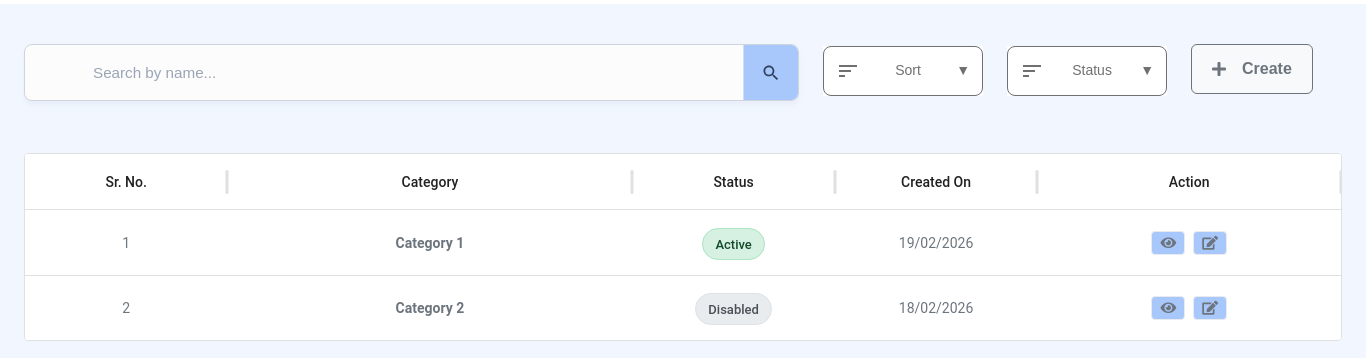
Testing Organisation Action Item Categories › Filter the categories by status (Active)
Expected: the text "Category 1" is shown, [396, 235, 464, 251]
Click the button with test id "filter-toggle".
click(1087, 70)  # box [1007, 46, 1167, 96]
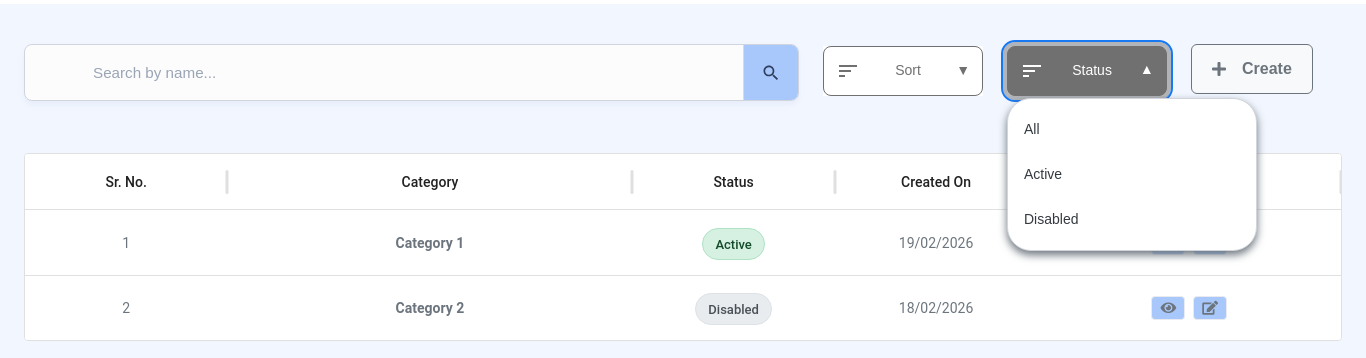
Now the option with test id "filter-item-active" is shown
Click the option with test id "filter-item-active".
click(1043, 174)  # box [1024, 166, 1062, 182]
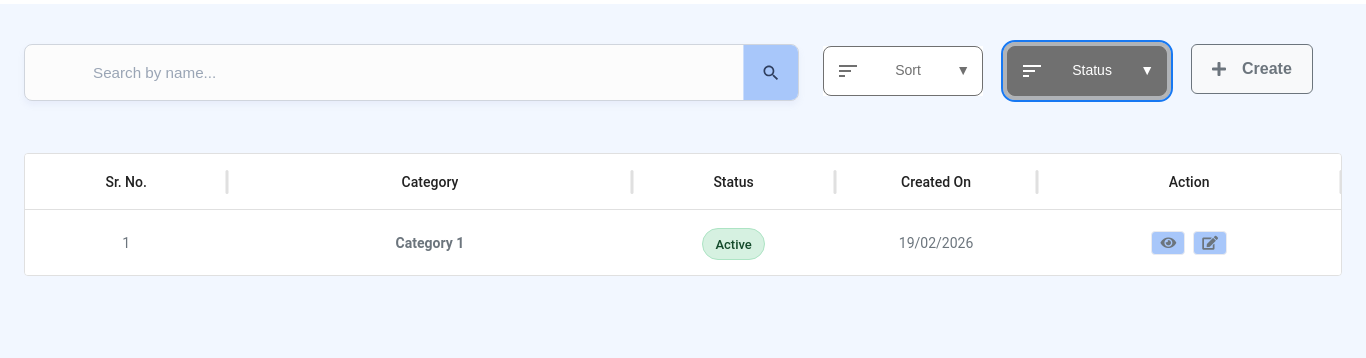
Expected: the text "Category 1" is shown, [396, 235, 464, 251]
Now the text "Category 2" is gone
Now the number of messages with test id "statusChip" is 1, box [702, 228, 765, 260]
